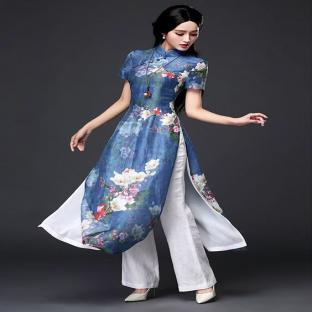Human: (39, 5, 267, 302)
